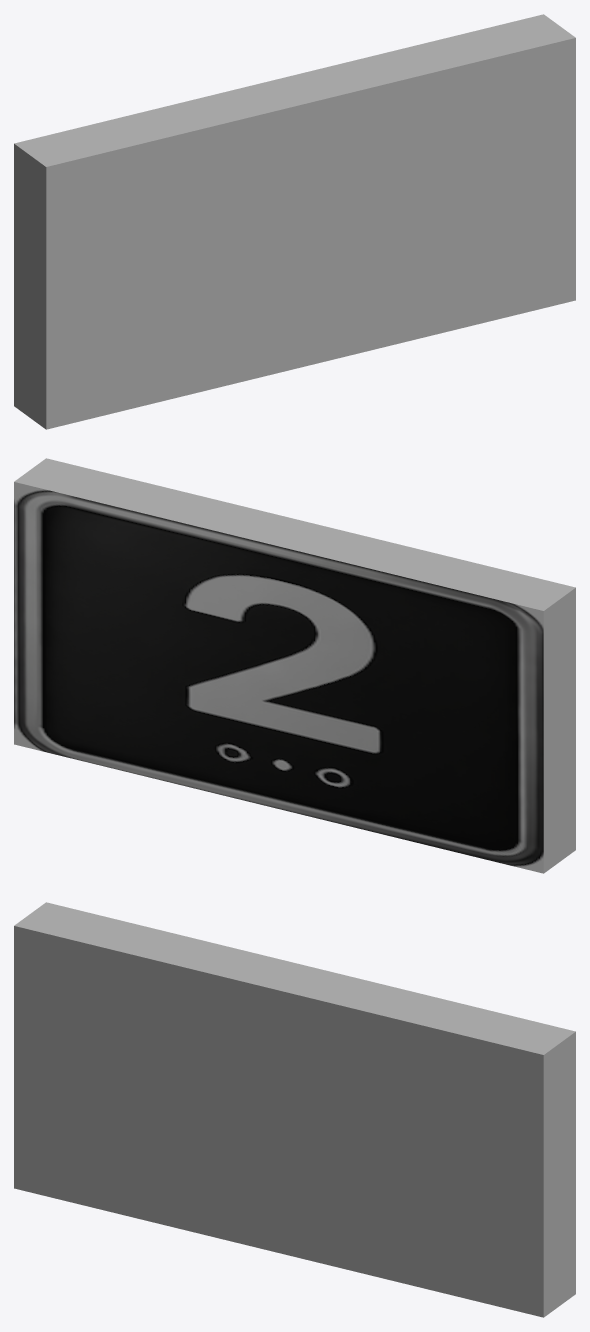
Rendered from 2_button.dae.
3 renders of one model, top to bottom at view 1: azimuth 30°, elevation 25°; view 2: azimuth 150°, elevation 25°; view 3: azimuth 330°, elevation 25°, orthographic.
Visible parts, largest first — view 1: Cube_002; view 2: Cube_002; view 3: Cube_002.
Part boxes in pixels (<box>): Cube_002: <box>14,14,575,429</box>; Cube_002: <box>14,458,575,873</box>; Cube_002: <box>14,902,575,1317</box>.
Size of the model in its own units: 0.19 by 0.02 by 0.09.
Materials: 2 (1 with a texture image).
